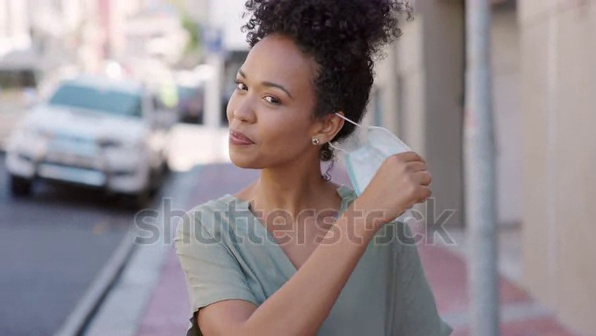No Mask: (211, 107, 299, 174)
